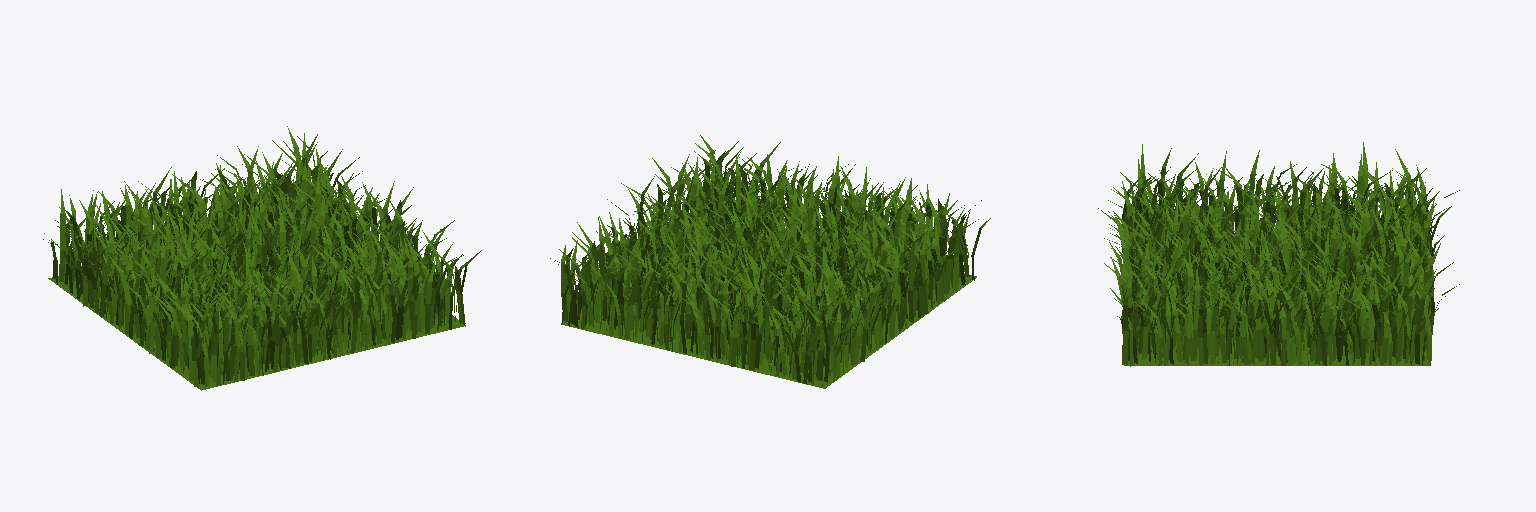
Rendered from grass!.obj.
3 renders of one model, left to right at view 1: azimuth 30°, elevation 25°; view 2: azimuth 150°, elevation 25°; view 3: azimuth 270°, elevation 25°, orthographic.
Visible parts, largest first — view 1: object; view 2: object; view 3: object.
Boxes of the visible parts, <box> form: object: <box>43,126,481,390</box>; object: <box>550,135,990,388</box>; object: <box>1098,142,1459,366</box>.
Bounding box in the file's own units: 1.2 × 0.3271 × 1.19.